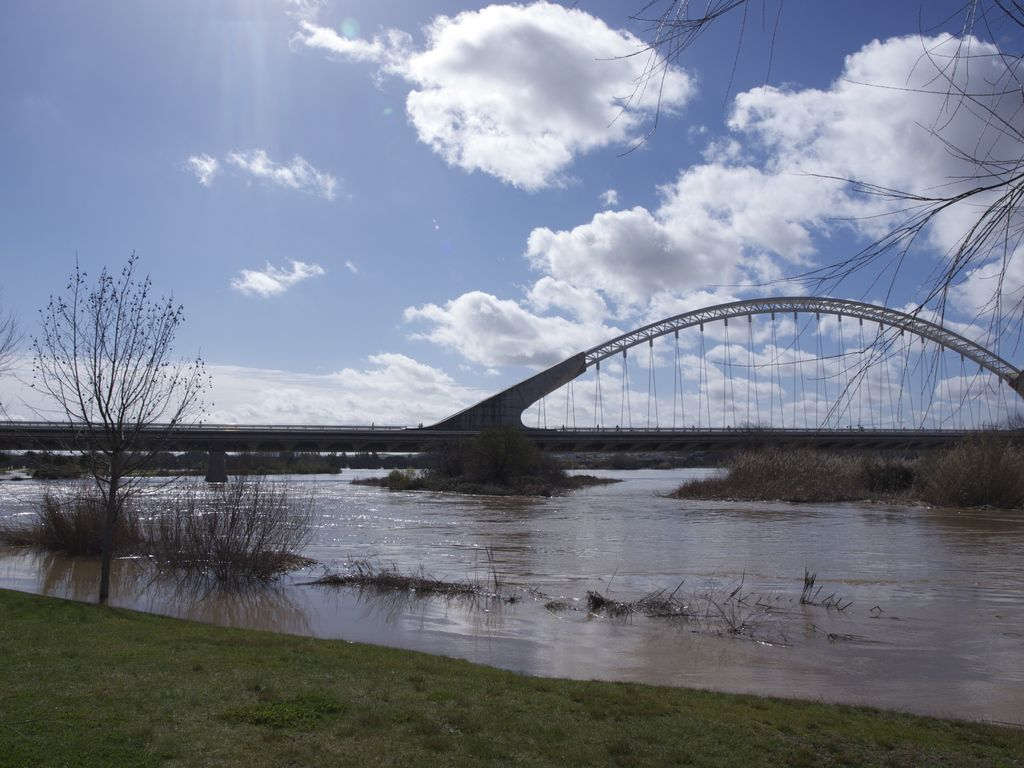Tree: (41, 215, 197, 558), (0, 301, 43, 473)
